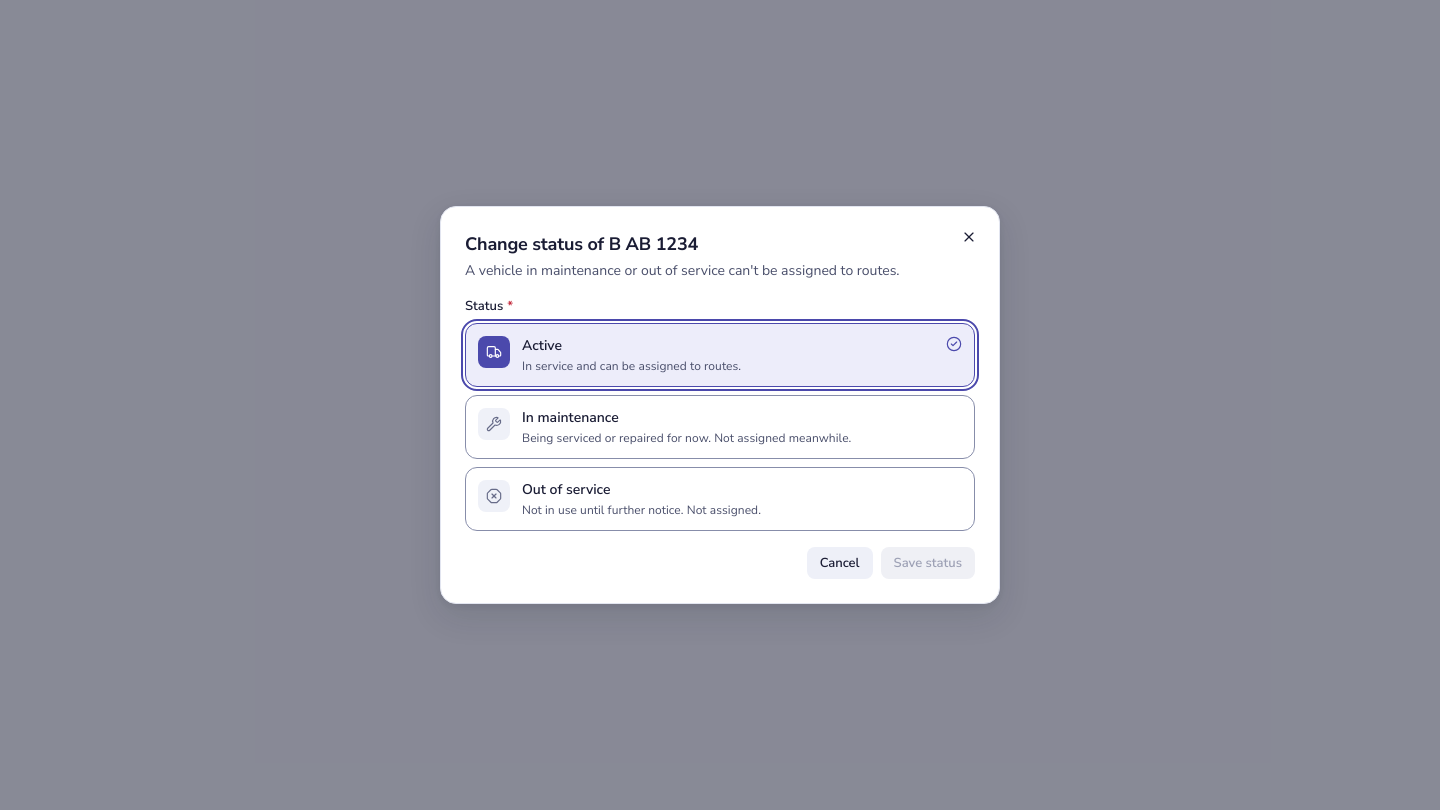
Scenario: VehicleStatusDialog › changes the status with the reason and an idempotency key, then confirms and closes
Click the radio button labelled "In maintenance" at (720, 427), box x1=465 y1=395 x2=975 y2=459
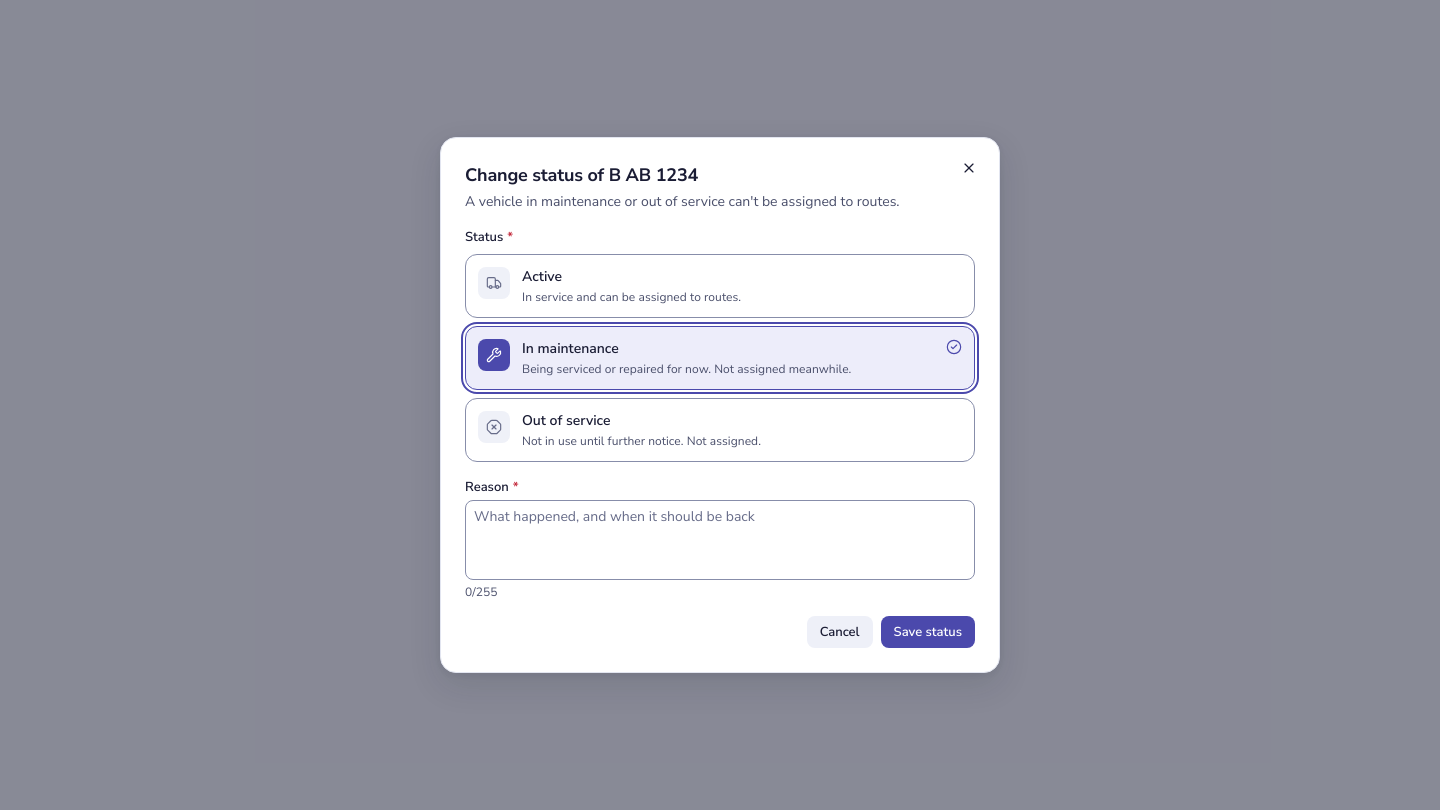
Type "  Brake service " into the text box labelled "Reason*" at (720, 540), box x1=465 y1=500 x2=975 y2=580
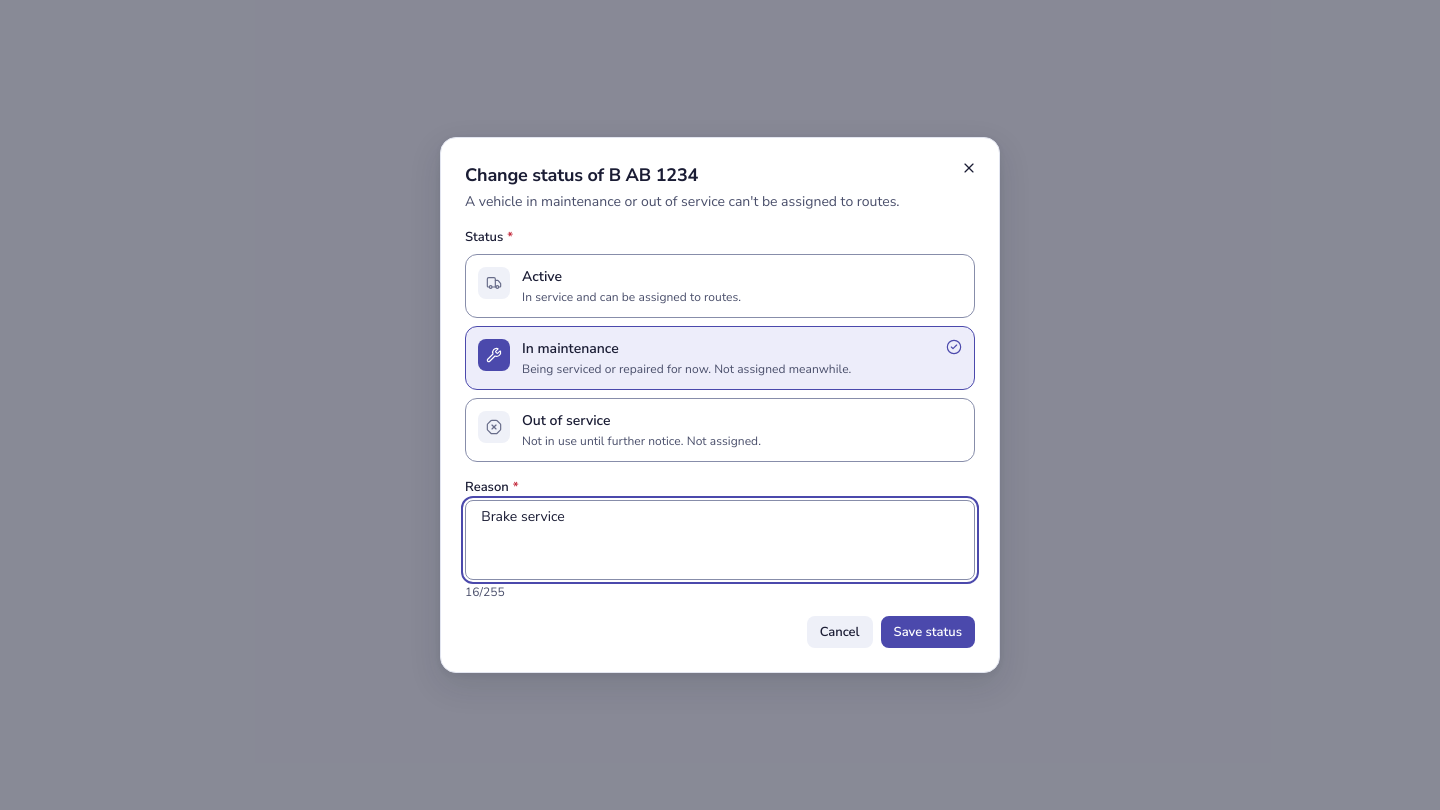
Click the button "Save status" at (928, 632), box x1=881 y1=616 x2=975 y2=648
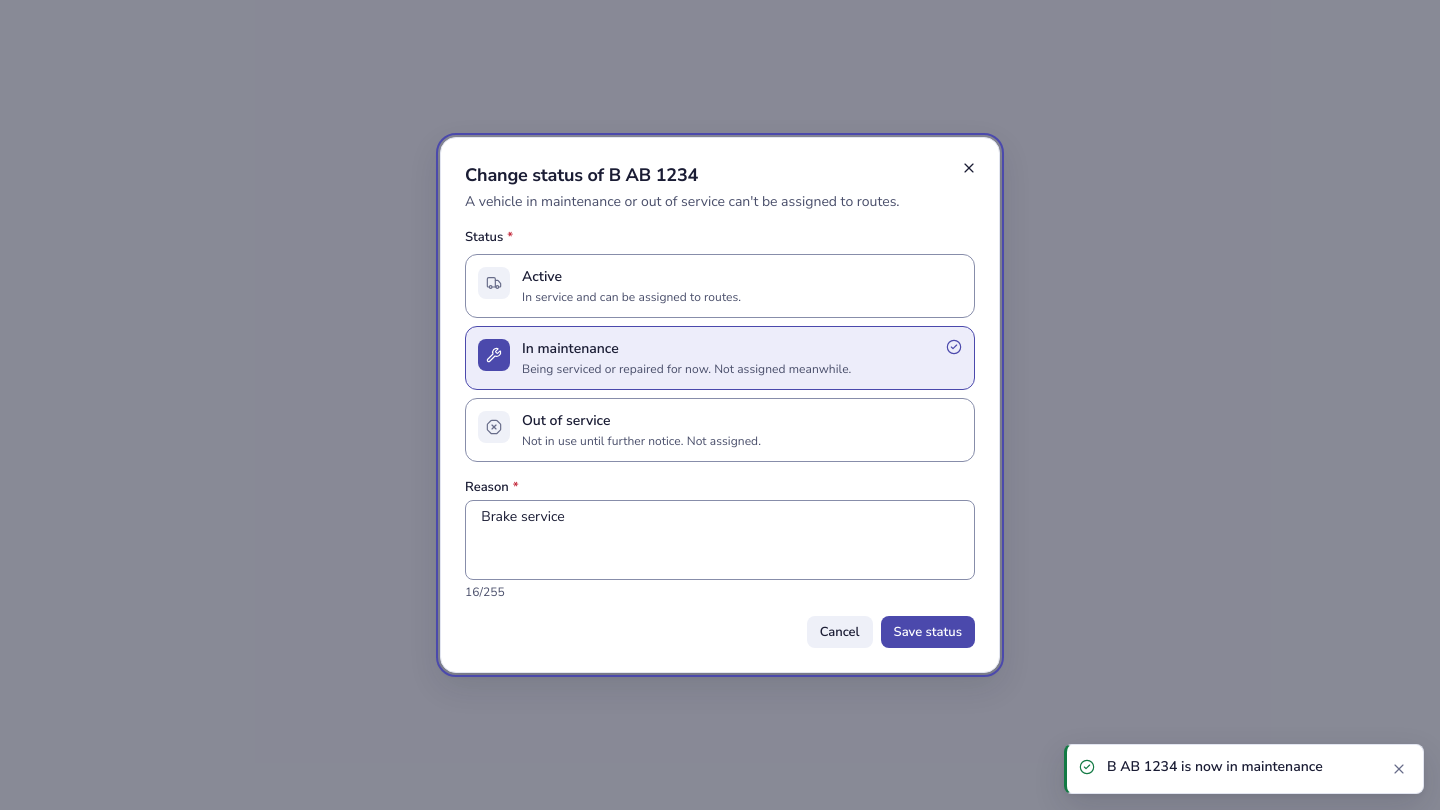
Result: the text "B AB 1234 is now in maintenance" is shown at x1=1107 y1=757 x2=1323 y2=776
